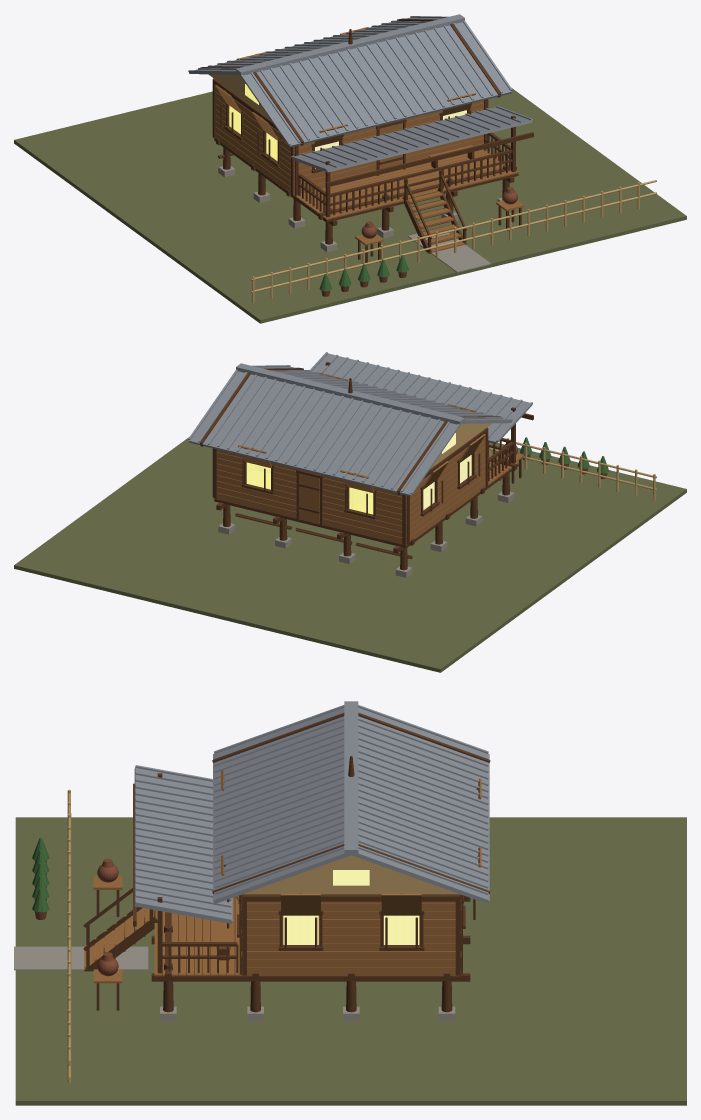
Rendered from stilt_house.glb.
3 renders of one model, top to bottom at view 1: azimuth 30°, elevation 25°; view 2: azimuth 150°, elevation 25°; view 3: azimuth 270°, elevation 25°, orthographic. The views are drawn at different scales.
Parts seen in each view (by area): view 1: ground, zinc, plank, timber, bamboo, stone, lit_glass, foliage, clay; view 2: ground, zinc, plank, timber, bamboo, lit_glass, stone, foliage; view 3: ground, zinc, plank, timber, bamboo, stone, lit_glass, foliage, clay.
Part boxes in pixels (x1,y1,x2,y2): ground: [14, 88, 686, 323]; zinc: [188, 14, 532, 172]; plank: [215, 27, 524, 252]; timber: [200, 19, 533, 265]; bamboo: [208, 74, 656, 303]; stone: [218, 166, 502, 272]; lit_glass: [229, 84, 466, 168]; foliage: [319, 255, 408, 291]; clay: [321, 187, 517, 296]; ground: [14, 437, 686, 672]; zinc: [188, 352, 532, 496]; plank: [215, 373, 524, 545]; timber: [199, 362, 533, 570]; bamboo: [430, 423, 656, 500]; lit_glass: [246, 433, 471, 514]; stone: [218, 492, 514, 577]; foliage: [520, 437, 609, 473]; ground: [15, 817, 686, 1105]; zinc: [134, 701, 489, 923]; plank: [84, 770, 481, 983]; timber: [83, 713, 490, 1012]; bamboo: [67, 789, 459, 1082]; stone: [14, 946, 455, 1021]; lit_glass: [283, 870, 419, 944]; foliage: [32, 837, 49, 912]; clay: [34, 858, 118, 976].
Bounding box in the file's own units: 20 × 6.98 × 20.05.
